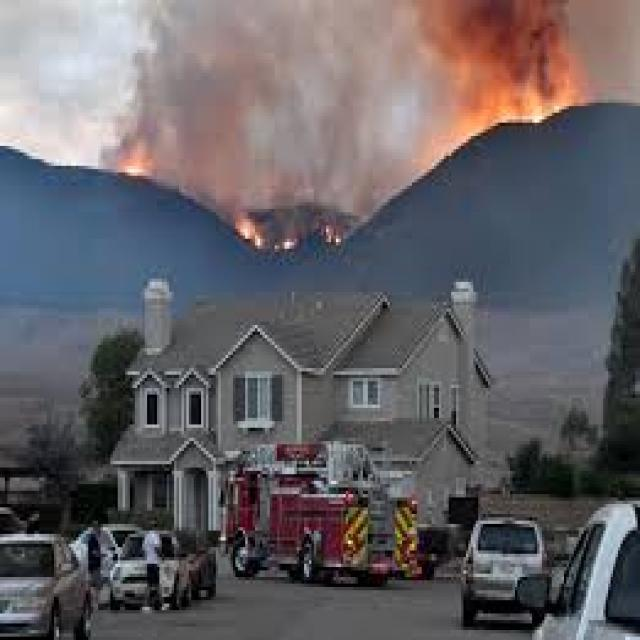Fire: (437, 98, 566, 168), (321, 227, 344, 247), (121, 166, 152, 178), (277, 235, 298, 252), (239, 218, 253, 243), (252, 232, 264, 250)
Smoke: (105, 0, 587, 243)
